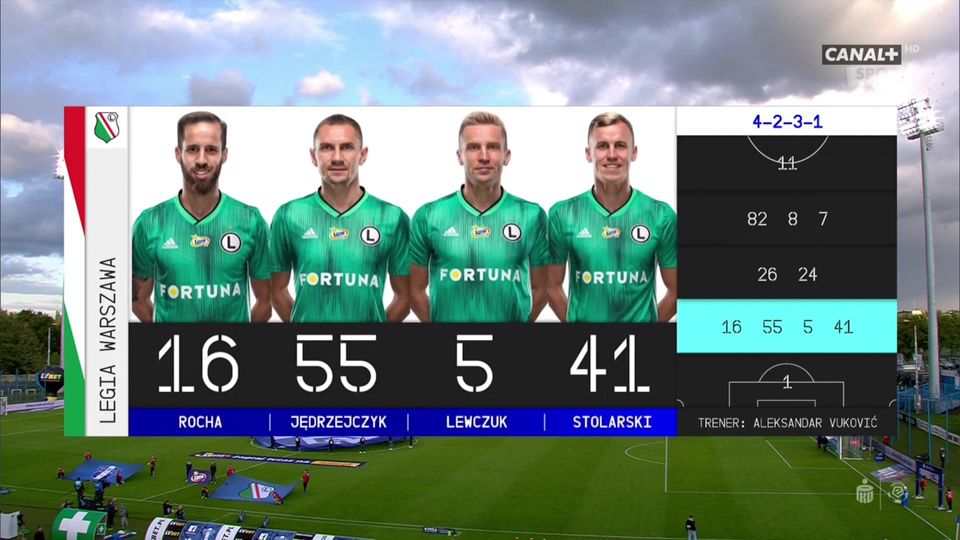Adidas: (160, 237, 181, 251), (301, 228, 319, 240), (443, 226, 460, 237), (574, 227, 592, 237)
